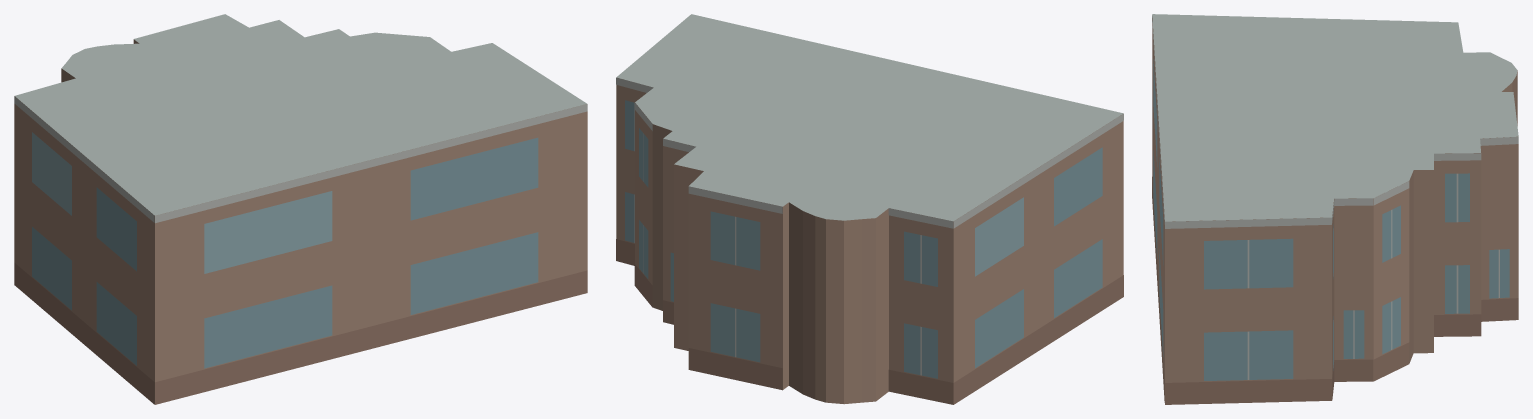
File: survey-upis-32640977.glb
3 views of the same model, side by side, from view 1: azimuth 30°, elevation 25°; view 2: azimuth 150°, elevation 25°; view 3: azimuth 270°, elevation 25° (orthographic). The views are drawn at different scales.
Parts seen in each view (by area): view 1: survey-upis-32640977.tmp; view 2: survey-upis-32640977.tmp; view 3: survey-upis-32640977.tmp.
Boxes of the visible parts, x1,y1,x2,y2 form: survey-upis-32640977.tmp: (14,14,587,404); survey-upis-32640977.tmp: (616,14,1123,404); survey-upis-32640977.tmp: (1152,14,1518,404).
Size of the model in its own units: 14.83 by 6.1 by 11.07.
